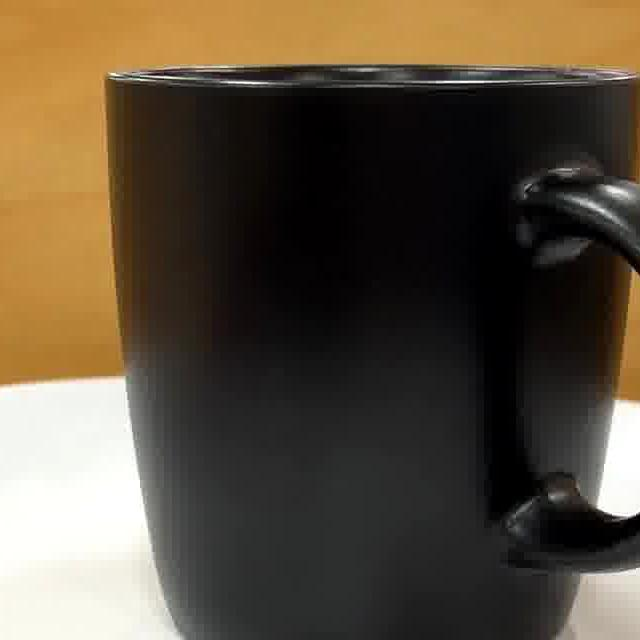cup: (113, 66, 640, 640)
